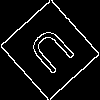U: (25, 24, 84, 84)
